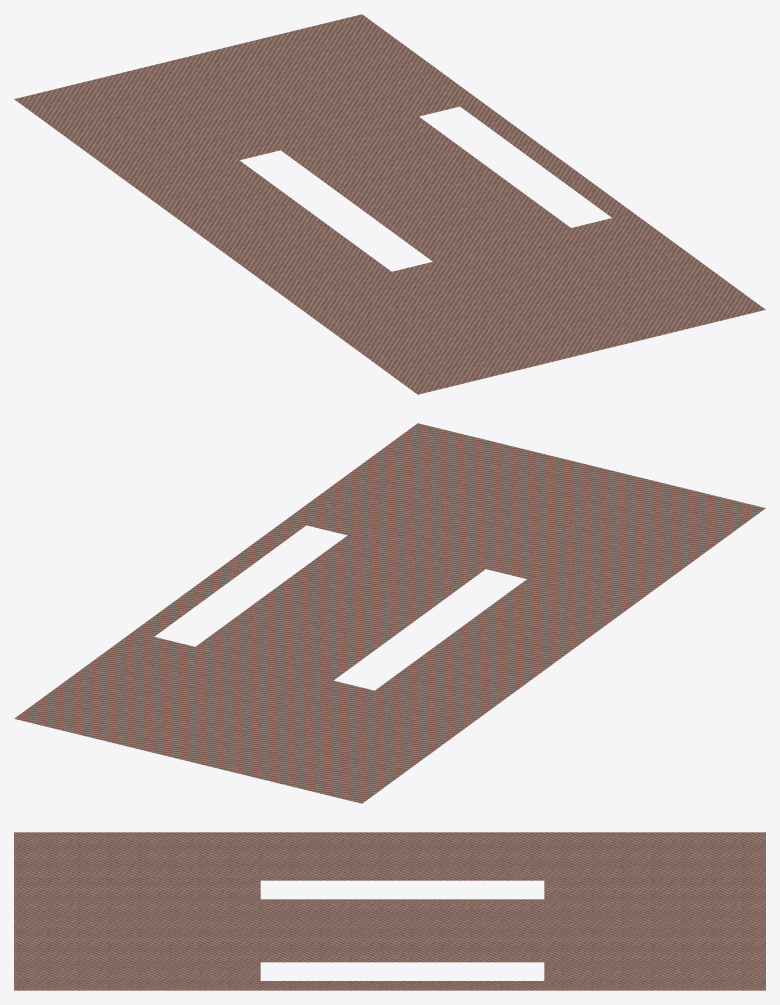
File: bigRoadTwoHole.fbx
The picture shows the model from 3 angles, top to bottom: view 1: azimuth 30°, elevation 25°; view 2: azimuth 150°, elevation 25°; view 3: azimuth 270°, elevation 25°; orthographic projection. The views are drawn at different scales.
Parts seen in each view (by area): view 1: bigRoadTwoHole; view 2: bigRoadTwoHole; view 3: bigRoadTwoHole.
Part boxes in pixels (left/top/right/bottom): bigRoadTwoHole: left=14, top=14, right=765, bottom=394; bigRoadTwoHole: left=14, top=423, right=765, bottom=803; bigRoadTwoHole: left=14, top=832, right=765, bottom=990.
Bounding box in the file's own units: 66 × 0 × 133.
